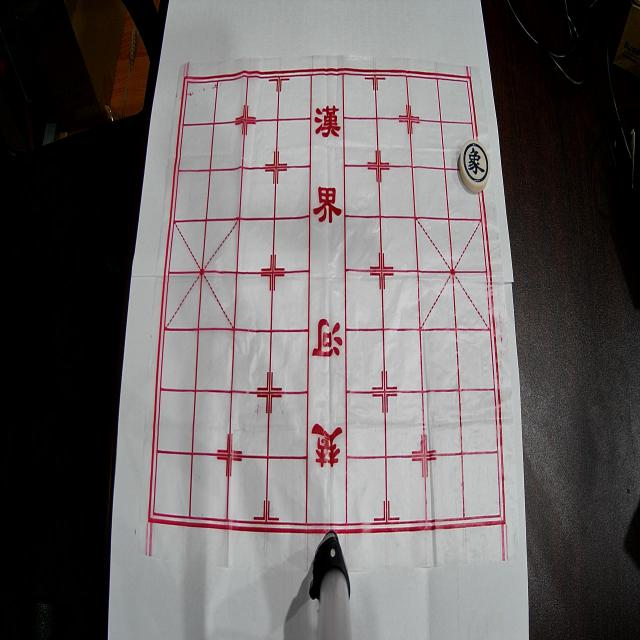black-elephant: (459, 139, 490, 193)
